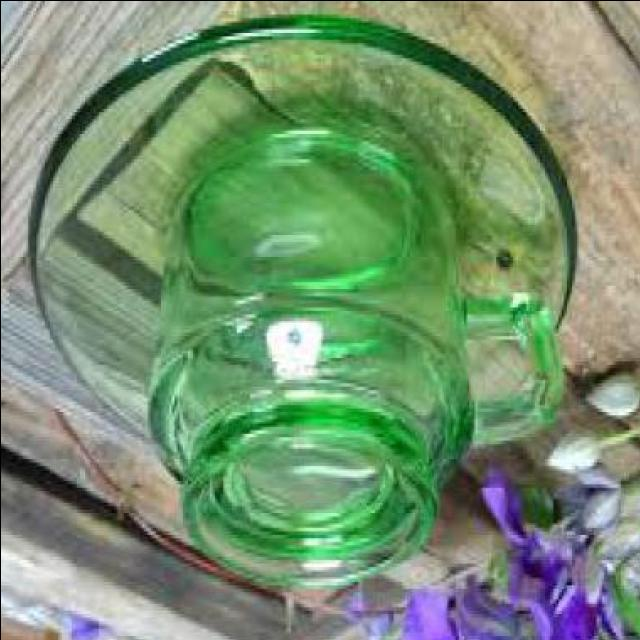kaca: (27, 20, 579, 455), (147, 111, 560, 588)
